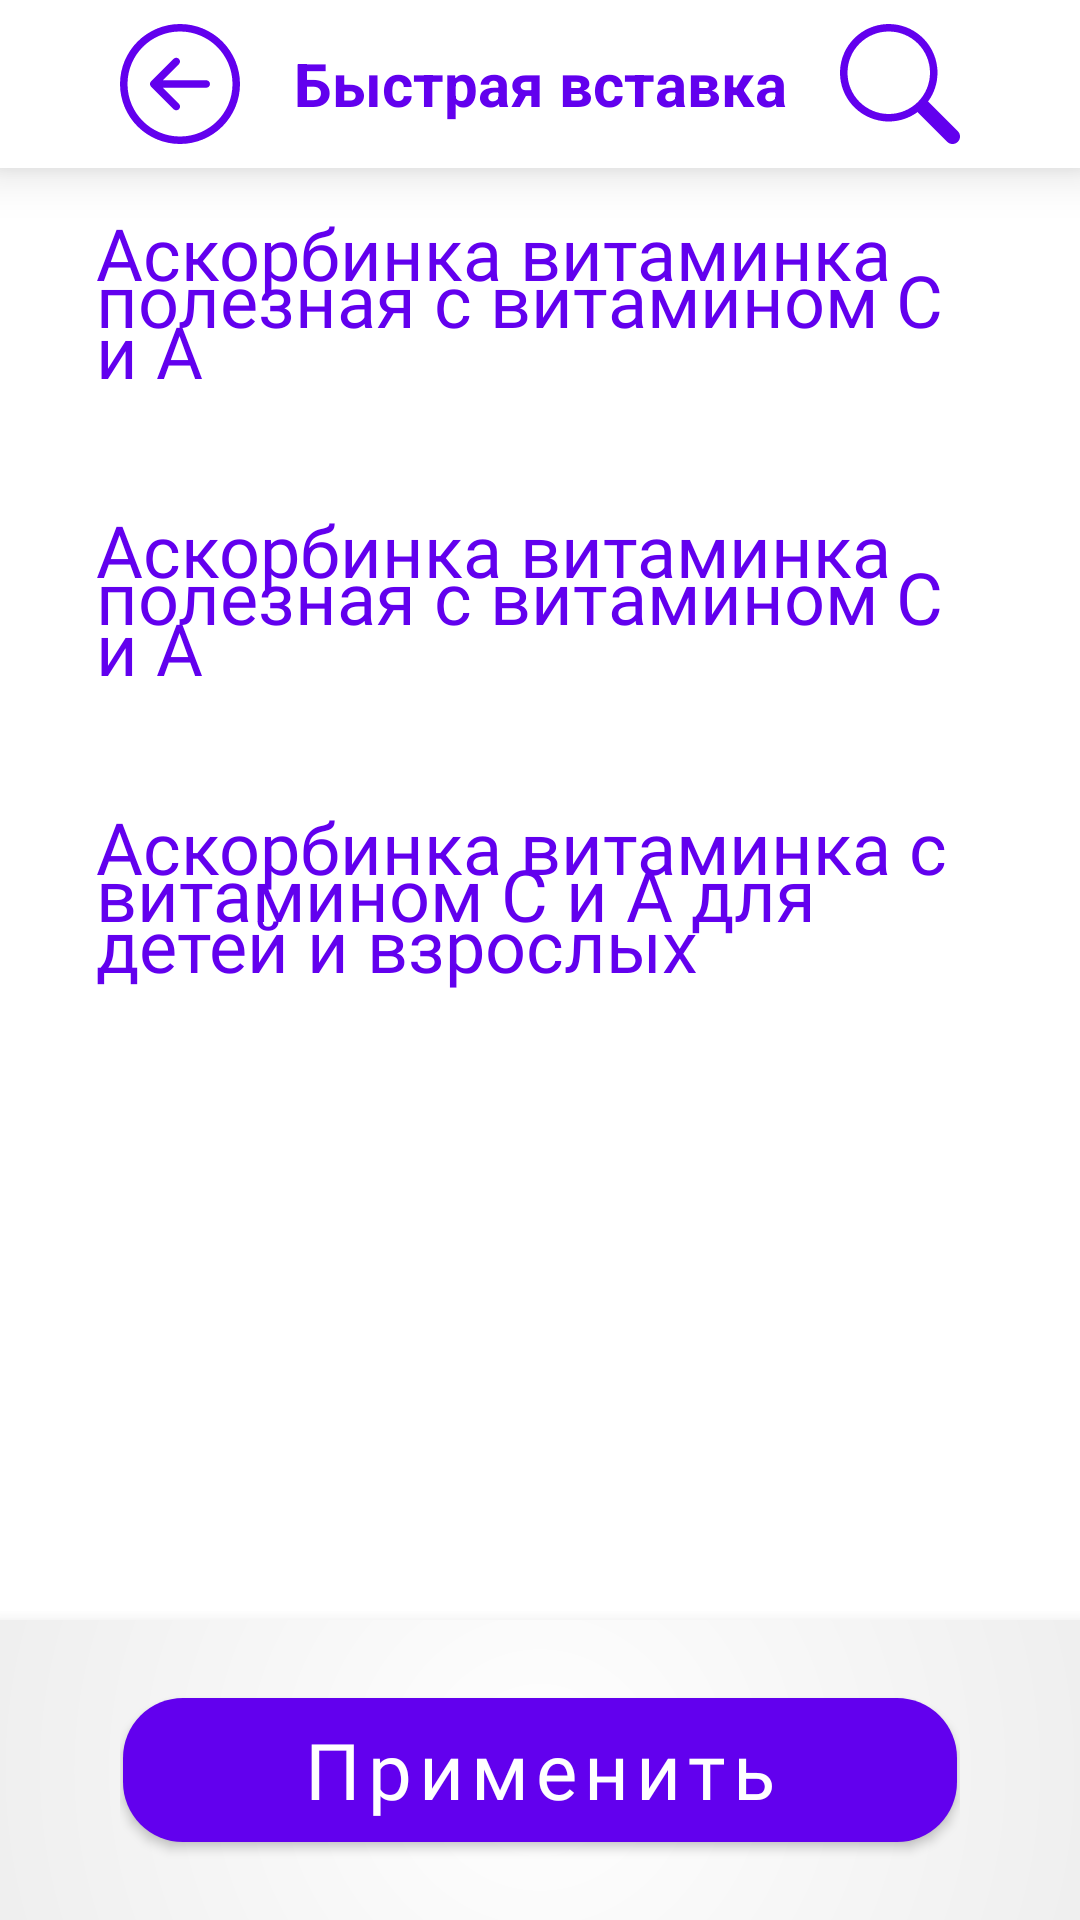

Screen size 1080×1920. Icon name, then its box in pixels as (x1, y1, x2, y2):
arrow left circle: (120, 24, 240, 144)
